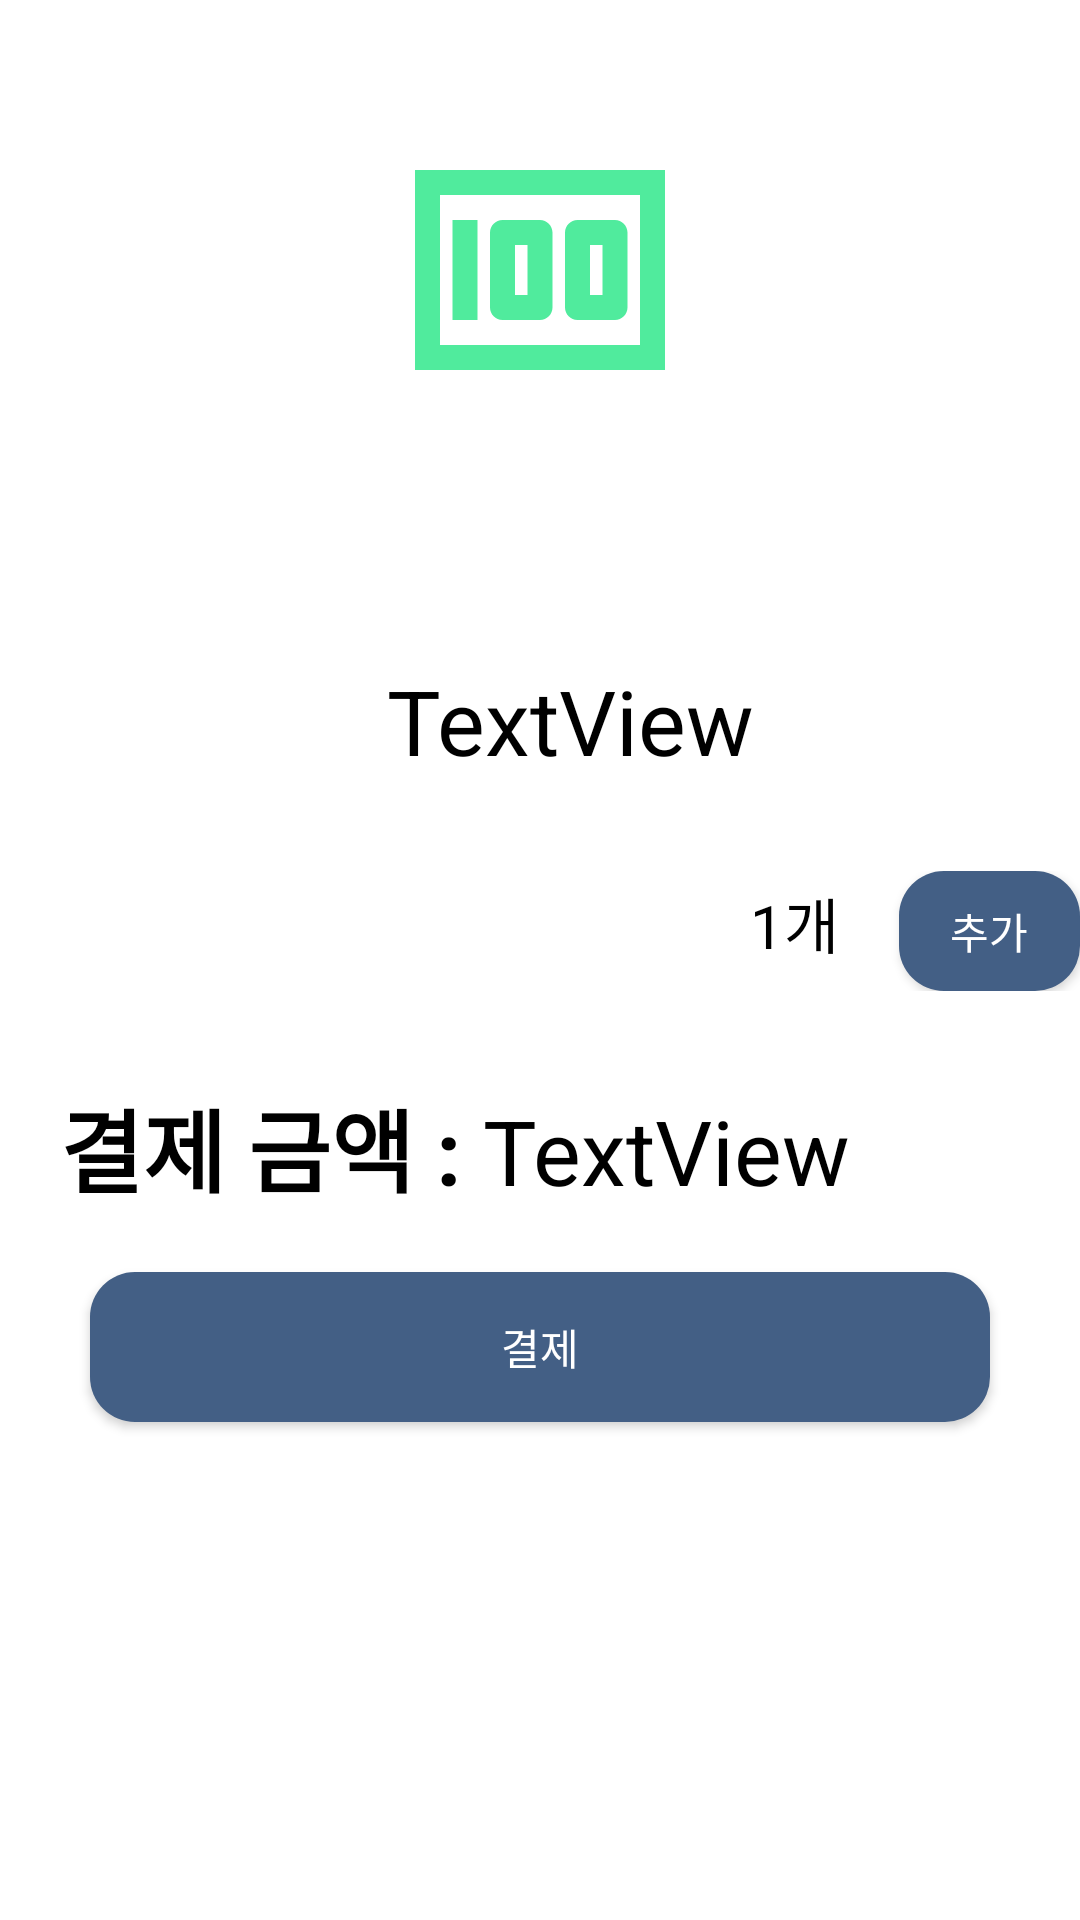

Named icons in this screenshot (1080 × 1920) and their bounding boxes, (x1, y1, x2, y2):
money: (415, 170, 665, 370)
